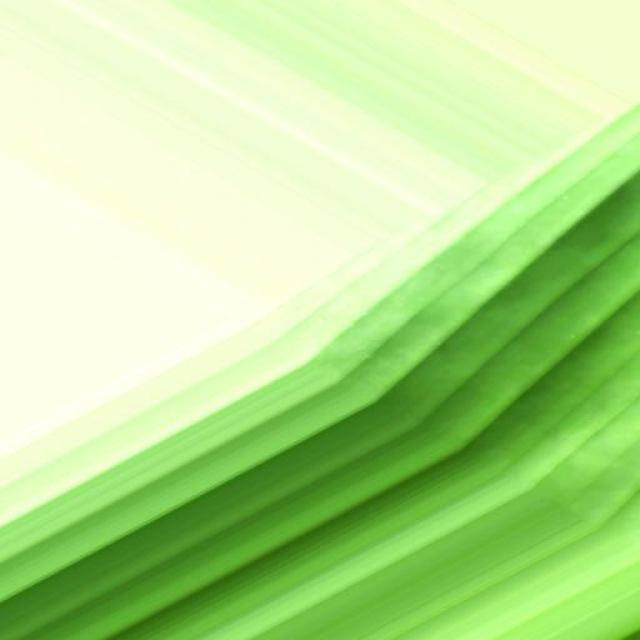Banana_Healthy: (344, 349, 601, 580)
